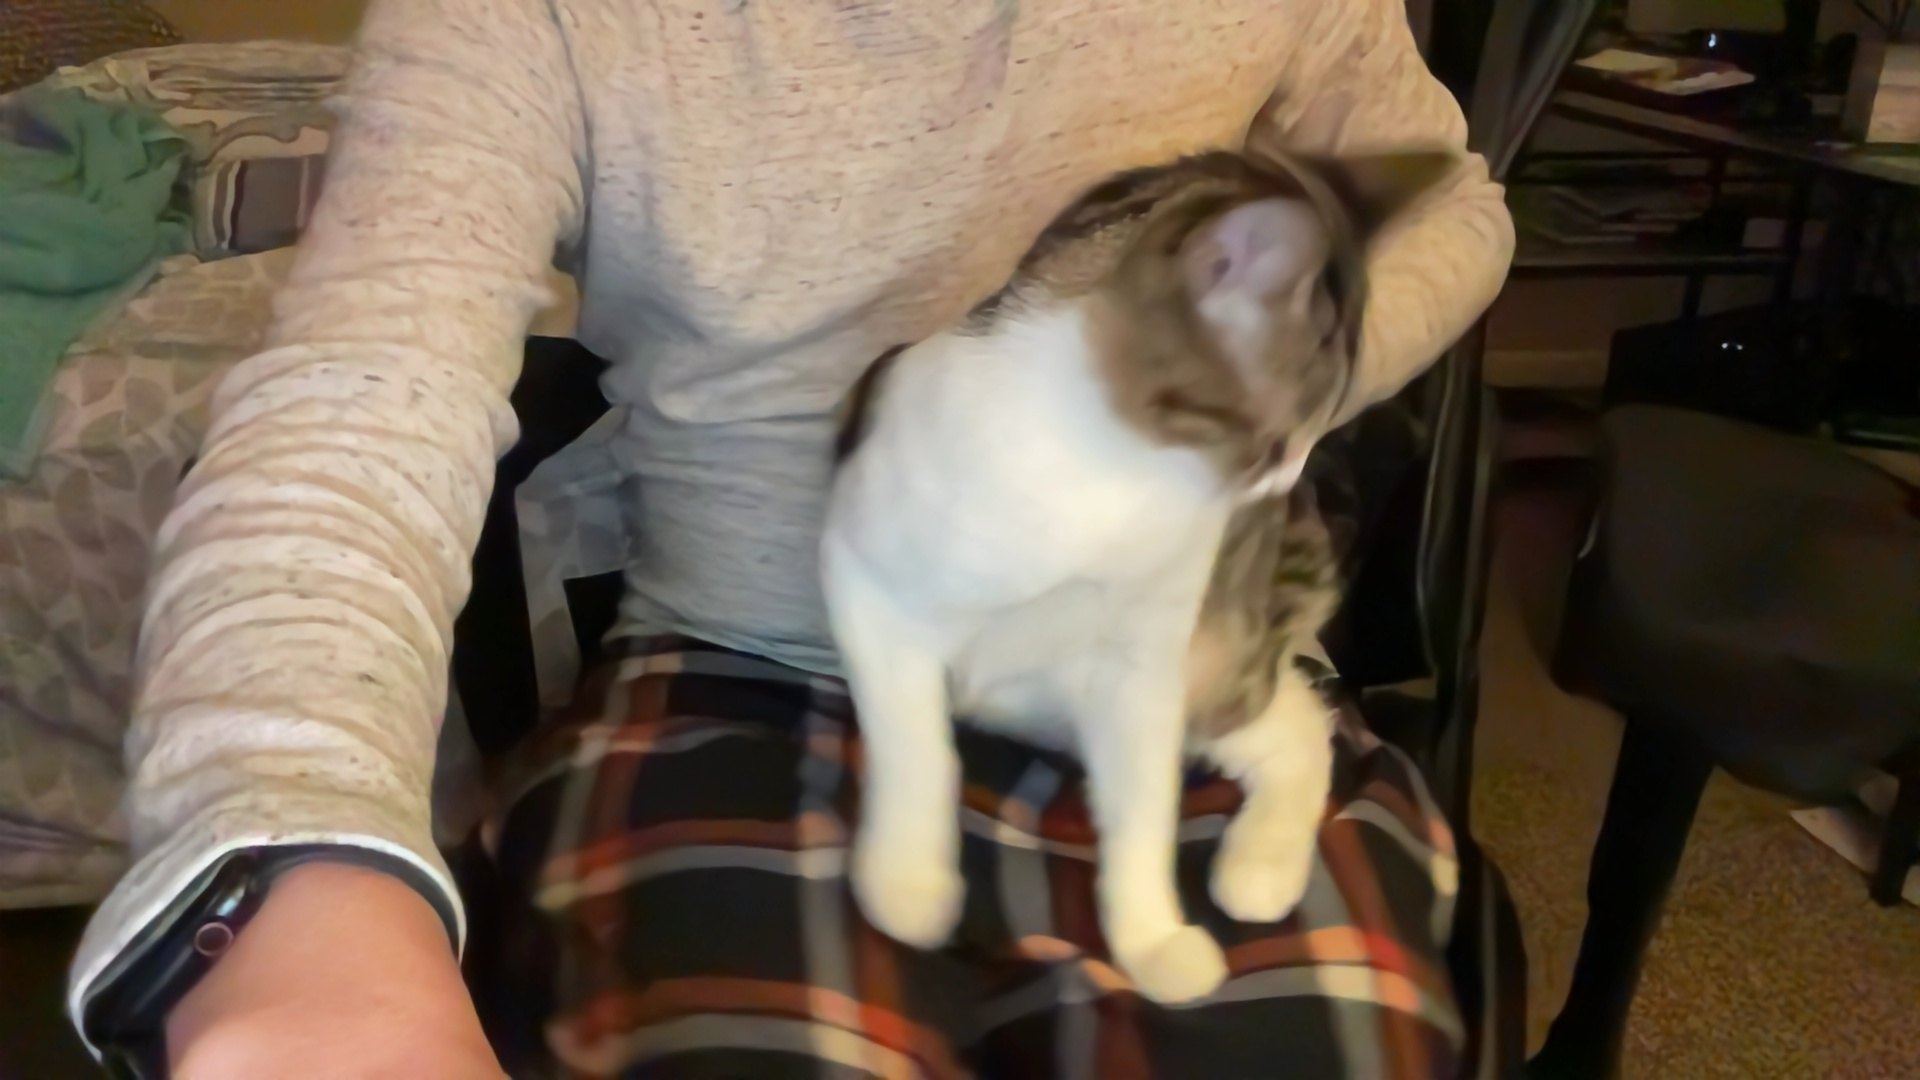cat: (810, 132, 1415, 1004)
